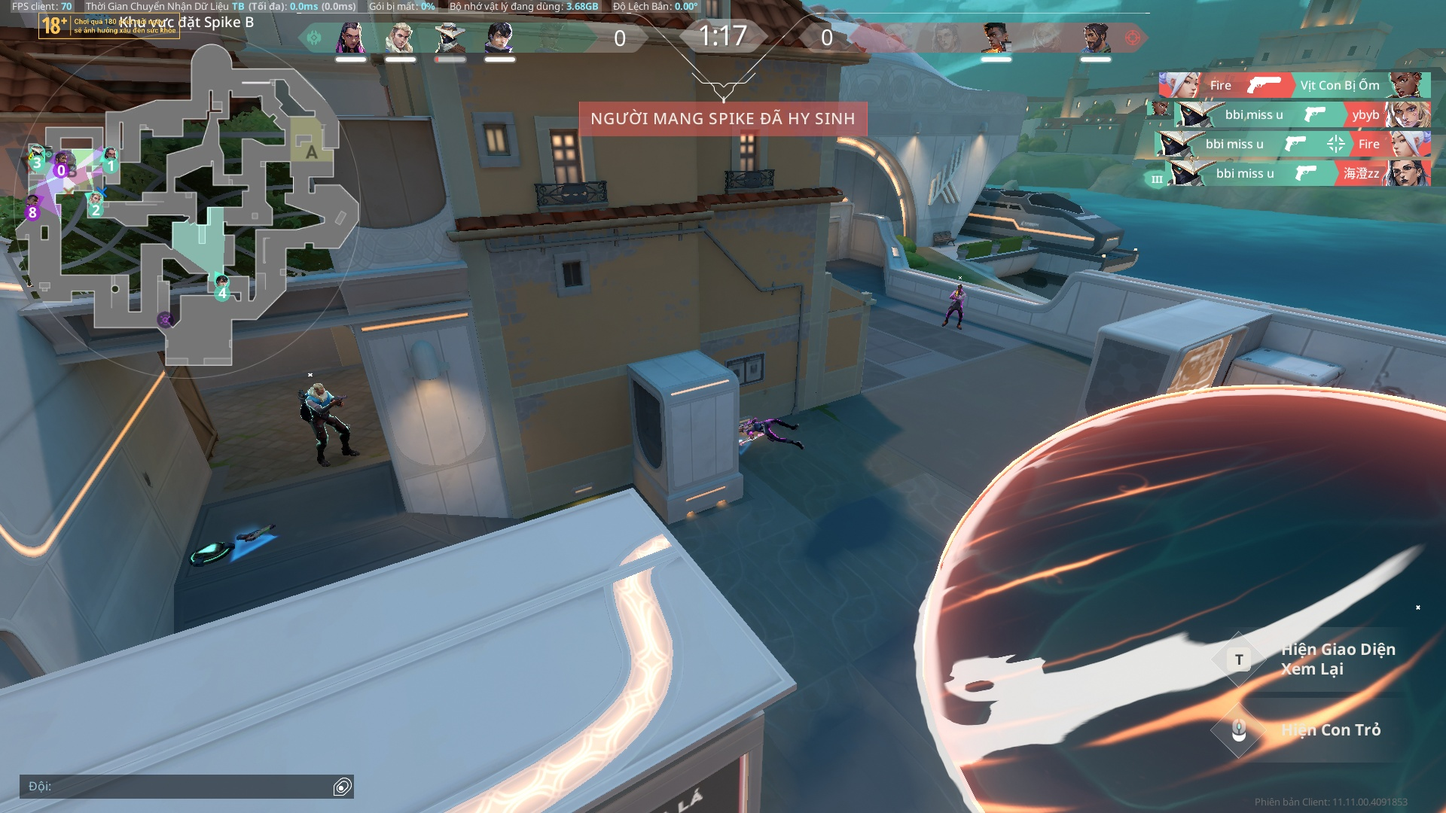body: (952, 290, 966, 304)
head: (956, 284, 964, 291)
